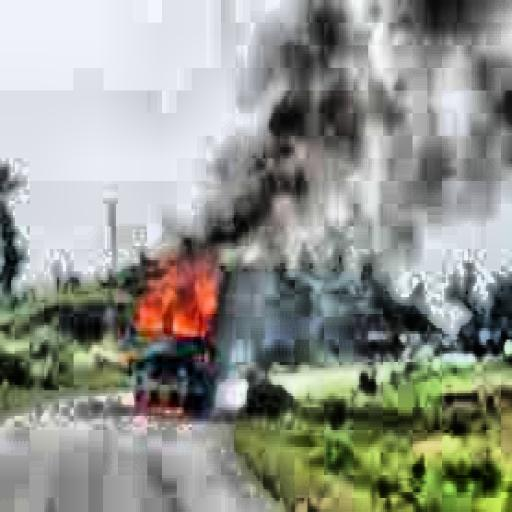fire: (123, 246, 234, 348)
